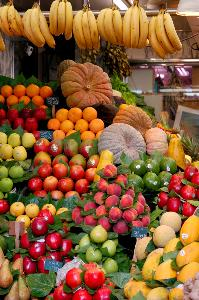apple: (17, 209, 75, 274), (28, 160, 97, 200), (160, 165, 199, 215), (9, 200, 67, 230), (0, 104, 46, 138), (0, 162, 24, 204), (0, 130, 36, 157), (45, 232, 62, 250), (181, 185, 197, 200), (12, 146, 27, 161), (43, 177, 58, 192), (25, 204, 40, 218), (25, 117, 38, 132), (0, 178, 13, 193)
avocado: (122, 153, 174, 193), (160, 157, 178, 174)
banana: (1, 0, 196, 64), (164, 10, 183, 51)
mango: (31, 140, 103, 172), (64, 139, 79, 157)
melon: (134, 212, 182, 260), (153, 225, 176, 248)
orange: (51, 106, 104, 140), (0, 82, 58, 110), (83, 107, 98, 122), (39, 86, 52, 99)
peach: (70, 164, 150, 229), (109, 208, 123, 222)
pomegranate: (41, 268, 114, 300), (84, 263, 106, 290)
